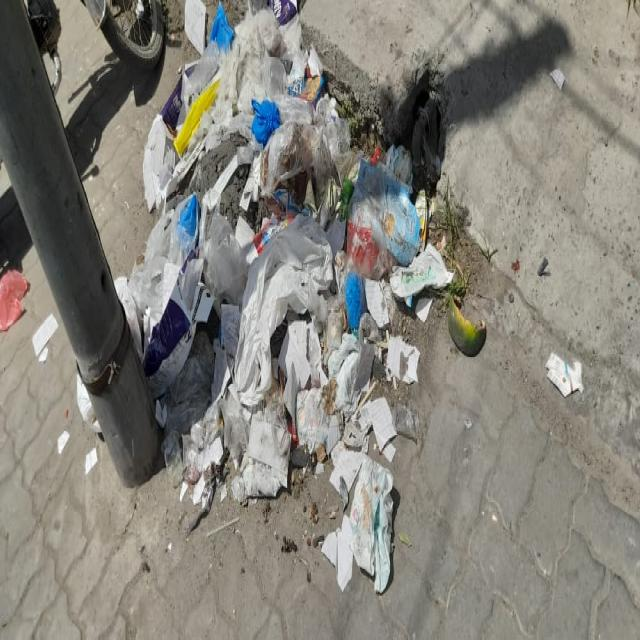plastic: (119, 10, 420, 592)
